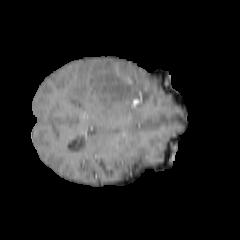glioma: (64, 59, 153, 120)
